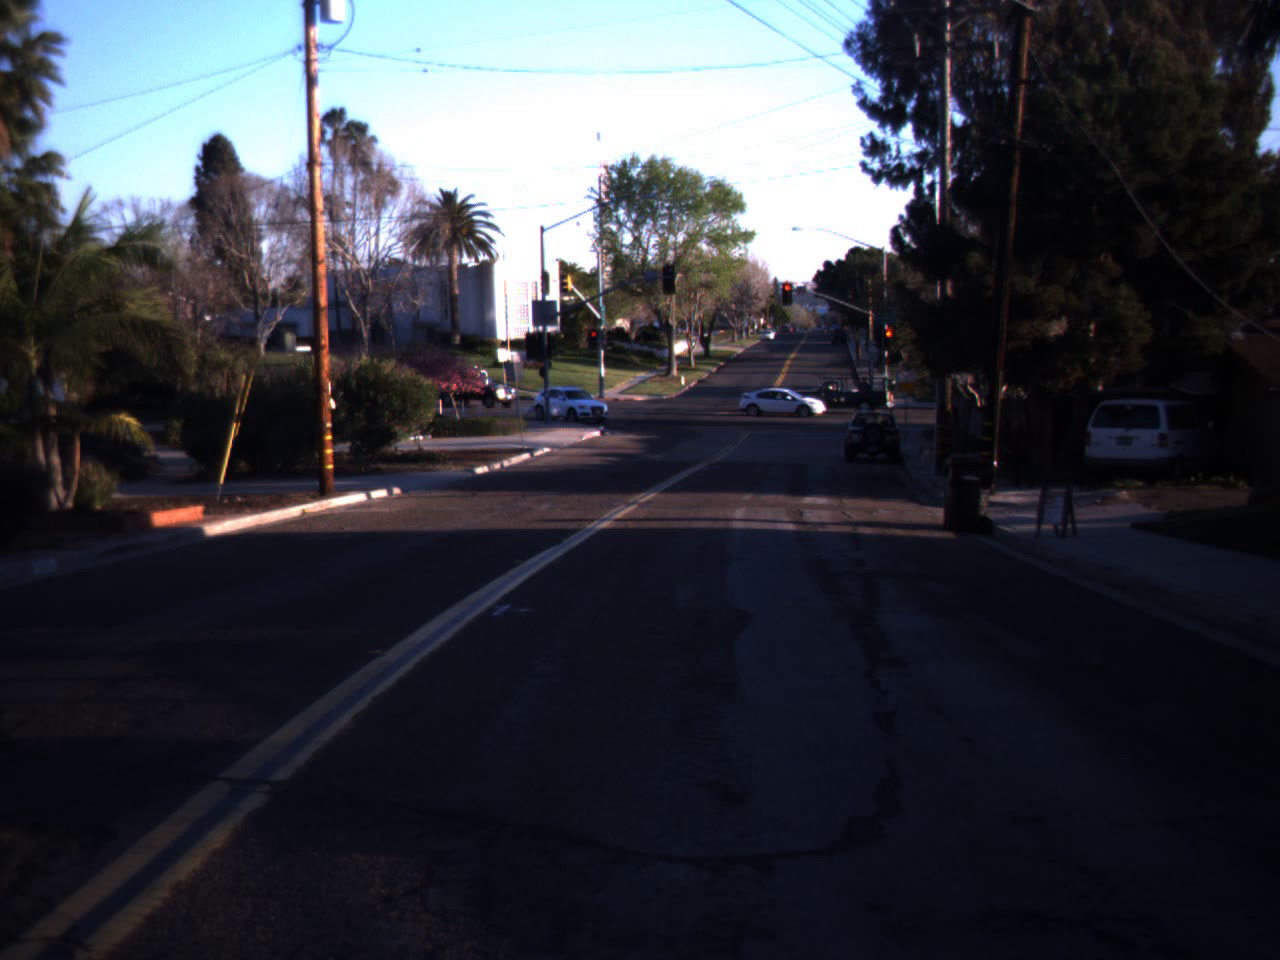stop: (780, 284, 795, 302), (881, 330, 896, 348), (588, 330, 600, 348)
